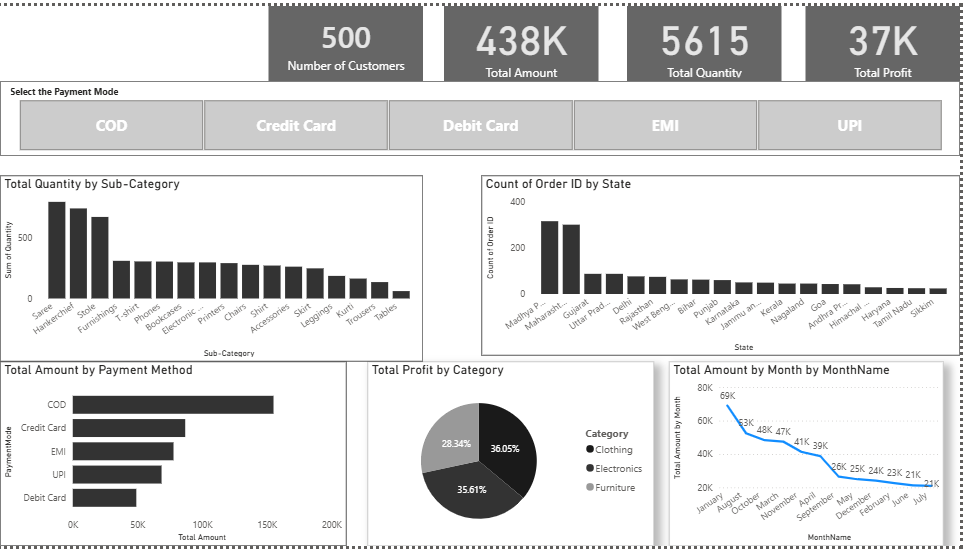

What the dashboard file says about the page in this screenshot:
{"tool":"powerbi","page":{"name":"Page 1","canvas":[1280,720],"ordinal":0},"visuals":[{"type":"lineChart","fields":{"Y":["Sum(Details.Amount)"],"Category":["Orders.MonthName"]},"box":[892,474,366,246],"z":0},{"type":"clusteredBarChart","title":"Total Amount by Payment Method","fields":{"Category":["Details.PaymentMode"],"Y":["Sum(Details.Amount)"]},"box":[0,474,462,246],"z":1000},{"type":"card","fields":{"Values":["Sum(Details.Profit)"]},"box":[1074,0,206,100],"z":2000},{"type":"card","fields":{"Values":["Sum(Details.Quantity)"]},"box":[836,0,206,100],"z":3000},{"type":"card","fields":{"Values":["Sum(Details.Amount)"]},"box":[592,0,206,100],"z":4000},{"type":"card","fields":{"Values":["Count(Details.Order ID)"]},"box":[358,0,206,100],"z":5000},{"type":"pieChart","title":"Total Profit by Category","fields":{"Y":["Sum(Details.Profit)"],"Category":["Details.Category"]},"box":[490,474,382,246],"z":6000},{"type":"columnChart","title":"Total Quantity by Sub-Category","fields":{"Category":["Details.Sub-Category"],"Y":["Sum(Details.Quantity)"]},"box":[0,226,564,248],"z":7000},{"type":"columnChart","fields":{"Category":["Orders.State"],"Y":["CountNonNull(Details.Order ID)"]},"box":[642,226,638,240],"z":8000},{"type":"slicer","fields":{"Values":["Details.PaymentMode"]},"box":[0,100,1280,100],"z":9000}]}

Visuals, with their boxes in screenshot pixels (x1, y1, x2, y2), scaled from the page's 1280x720 canvas onto the 964x549 screenshot:
lineChart - Sum(Details.Amount) x Orders.MonthName: rect(672, 361, 947, 548)
"Total Amount by Payment Method" clusteredBarChart: rect(0, 361, 348, 548)
card - Sum(Details.Profit): rect(809, 0, 963, 76)
card - Sum(Details.Quantity): rect(630, 0, 785, 76)
card - Sum(Details.Amount): rect(446, 0, 601, 76)
card - Count(Details.Order ID): rect(270, 0, 425, 76)
"Total Profit by Category" pieChart: rect(369, 361, 657, 548)
"Total Quantity by Sub-Category" columnChart: rect(0, 172, 425, 361)
columnChart - Orders.State x CountNonNull(Details.Order ID): rect(484, 172, 963, 355)
slicer - Details.PaymentMode: rect(0, 76, 963, 152)
